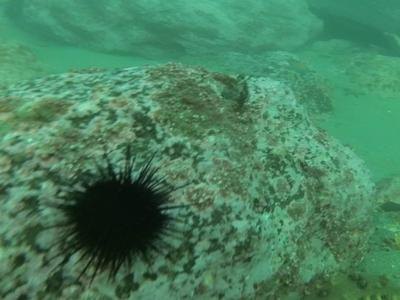holothurian: (293, 269, 396, 296)
urchin: (40, 144, 191, 291)
